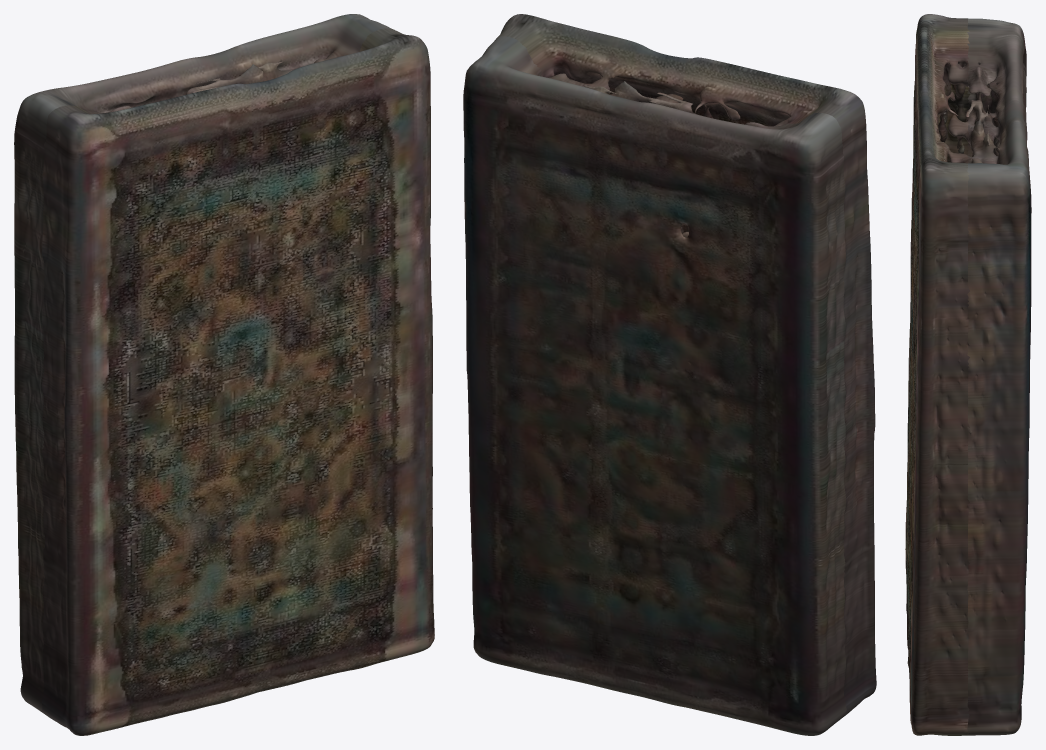
File: kfl-2137.glb
The picture shows the model from 3 angles, left to right: view 1: azimuth 30°, elevation 25°; view 2: azimuth 150°, elevation 25°; view 3: azimuth 270°, elevation 25°; orthographic projection. The views are drawn at different scales.
Parts seen in each view (by area): view 1: geometry_0; view 2: geometry_0; view 3: geometry_0.
Part boxes in pixels (box(x1,y1,x2,y2)): geometry_0: box(14, 14, 434, 735); geometry_0: box(463, 14, 876, 735); geometry_0: box(905, 14, 1031, 735).
Size of the model in its own units: 0.6253 by 0.9978 by 0.1983.
Materials: 1 (1 with a texture image).
